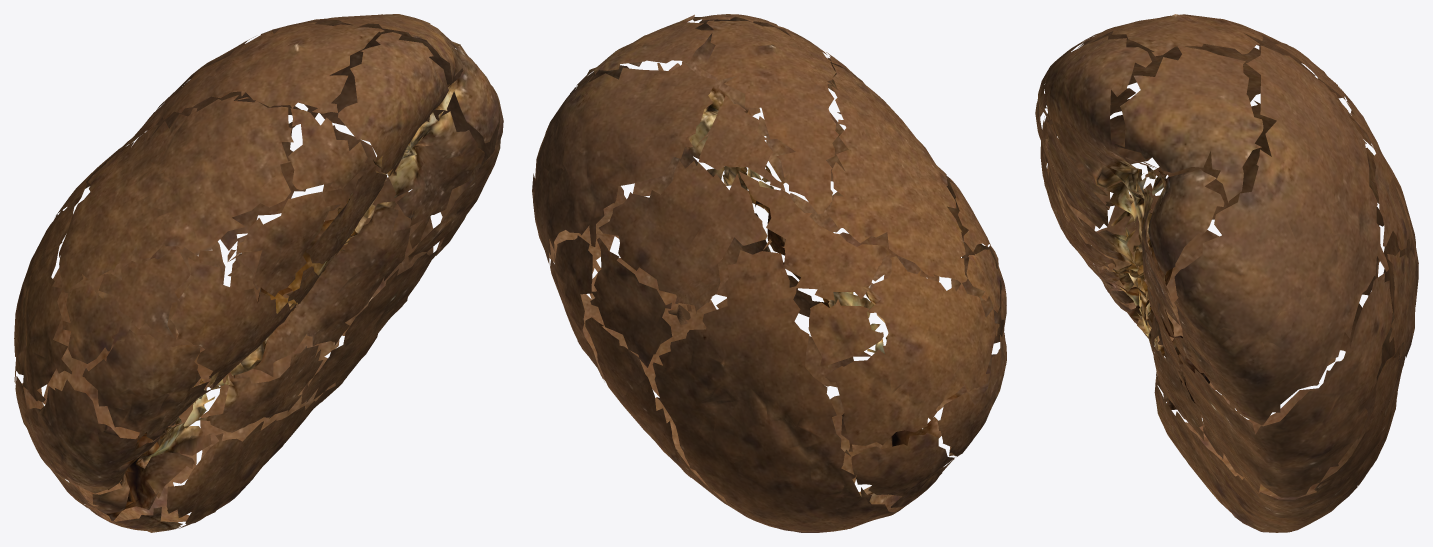
Rendered from coffee_bean.glb.
The picture shows the model from 3 angles, left to right: view 1: azimuth 30°, elevation 25°; view 2: azimuth 150°, elevation 25°; view 3: azimuth 270°, elevation 25°; orthographic projection. The views are drawn at different scales.
Parts seen in each view (by area): view 1: CoffeeBean; view 2: CoffeeBean; view 3: CoffeeBean.
Boxes of the visible parts, x1,y1,x2,y2 form: CoffeeBean: (14, 14, 503, 532); CoffeeBean: (532, 14, 1006, 532); CoffeeBean: (1035, 14, 1418, 532).
Bounding box in the file's own units: 3.68 × 3.64 × 2.3.
1 material, 1 textured.
